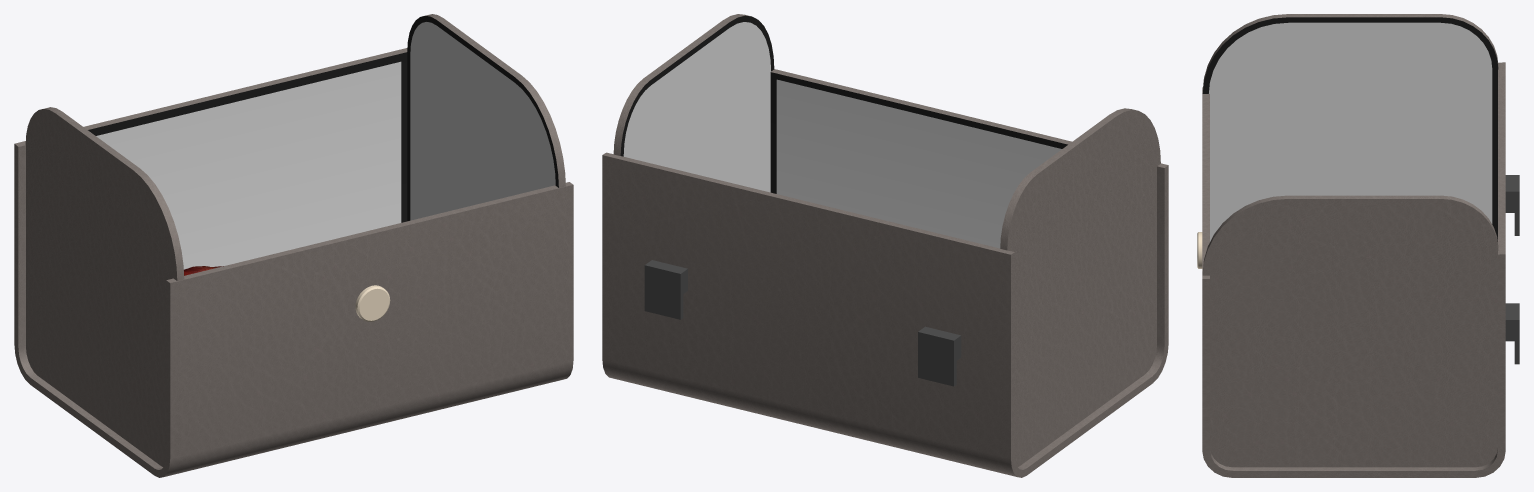
3 renders of one model, left to right at view 1: azimuth 30°, elevation 25°; view 2: azimuth 150°, elevation 25°; view 3: azimuth 270°, elevation 25°, orthographic. The views are drawn at different scales.
Visible parts, largest first — view 1: box1.003; view 2: box1.003; view 3: box1.003.
Part boxes in pixels (box(x1,y1,x2,y2)): box1.003: box(14, 14, 573, 477); box1.003: box(602, 14, 1168, 477); box1.003: box(1197, 14, 1519, 477).
Bounding box in the file's own units: 0.2704 × 0.1811 × 0.1921.
Materials: 7 (3 with a texture image).
